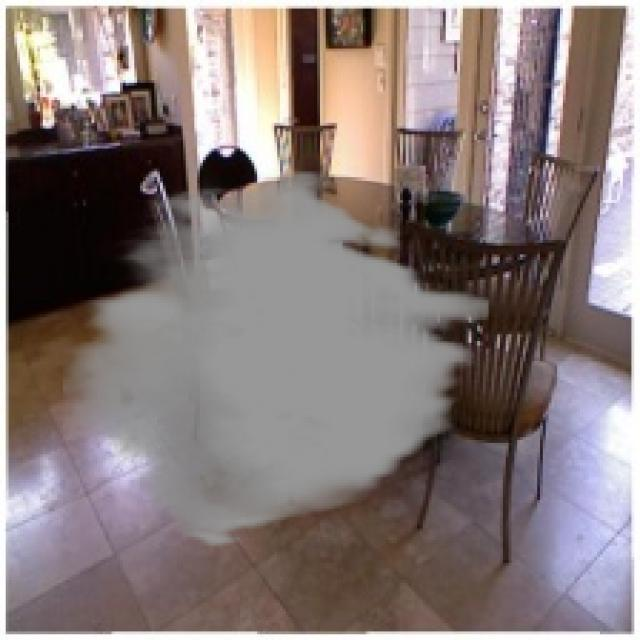smoke: (63, 168, 488, 548)
